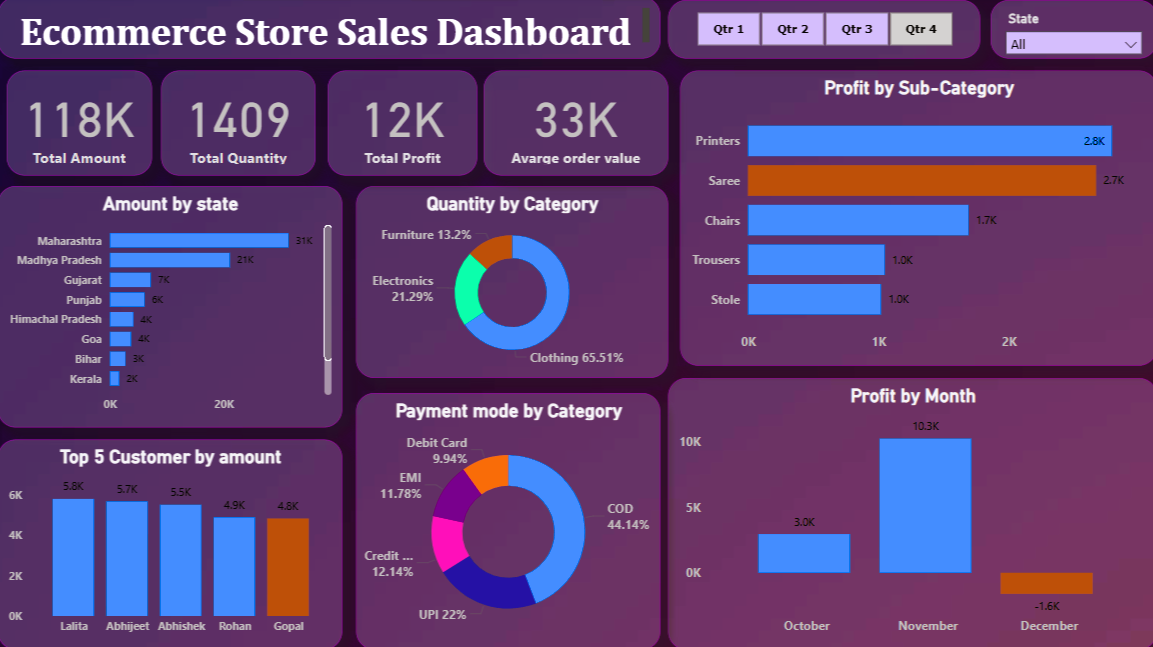

This screenshot's page, from the dashboard's own definition file:
{"tool":"powerbi","page":{"name":"Page 1","canvas":[1280,720],"ordinal":0},"visuals":[{"type":"textbox","box":[0,0,732.2,67.9],"z":0},{"type":"columnChart","title":"Profit by Month","fields":{"Category":["Orders.Order Date.Variation.Date Hierarchy.Month"],"Y":["Details.Profit"]},"box":[740.4,420.7,540,299.8],"z":1000},{"type":"barChart","title":"Profit by Sub-Category","fields":{"Category":["Details.Sub-Category"],"Y":["Details.Profit"]},"box":[753.7,81.2,526.8,326.3],"z":2000},{"type":"donutChart","title":"Quantity by Category","fields":{"Category":["Details.Category"],"Y":["Details.Quantity"]},"box":[395.9,208.7,344.5,212],"z":3000},{"type":"donutChart","title":"Payment mode by Category","fields":{"Y":["Details.Quantity"],"Category":["Details.PaymentMode"]},"box":[395.9,437.3,336.3,283.3],"z":4000},{"type":"card","fields":{"Values":["Details.Amount"]},"box":[9.9,81.2,160.7,116],"z":5000},{"type":"card","fields":{"Values":["Details.Quantity"]},"box":[180.6,81.2,170.6,116],"z":6000},{"type":"card","fields":{"Values":["Details.Profit"]},"box":[364.4,81.2,165.6,116],"z":7000},{"type":"card","fields":{"Values":["Details.Avarge order value"]},"box":[536.7,81.2,203.7,116],"z":8000},{"type":"barChart","title":"Amount by state","fields":{"Category":["Orders.State"],"Y":["Details.Amount"]},"box":[0,208.7,381,266.7],"z":9000},{"type":"columnChart","title":"Top 5 Customer by amount","fields":{"Category":["Orders.CustomerName"],"Y":["Details.Amount"]},"box":[0,488.7,381,231.9],"z":10000},{"type":"slicer","fields":{"Values":["Orders.Order Date.Variation.Date Hierarchy.Quarter"]},"box":[740.4,3.3,344.5,64.6],"z":11000},{"type":"slicer","fields":{"Values":["Orders.State"]},"box":[1096.6,3.3,183.9,64.6],"z":12000}]}

Visuals, with their boxes in screenshot pixels (x1, y1, x2, y2), scaled from the page's 1280x720 canvas onto the 1153x647 screenshot:
textbox: 0/0/660/61
"Profit by Month" columnChart: 667/378/1152/646
"Profit by Sub-Category" barChart: 679/73/1152/366
"Quantity by Category" donutChart: 357/188/667/378
"Payment mode by Category" donutChart: 357/393/660/646
card - Details.Amount: 9/73/154/177
card - Details.Quantity: 163/73/316/177
card - Details.Profit: 328/73/477/177
card - Details.Avarge order value: 483/73/667/177
"Amount by state" barChart: 0/188/343/427
"Top 5 Customer by amount" columnChart: 0/439/343/646
slicer - Orders.Order Date.Variation.Date Hierarchy.Quarter: 667/3/977/61
slicer - Orders.State: 988/3/1152/61
